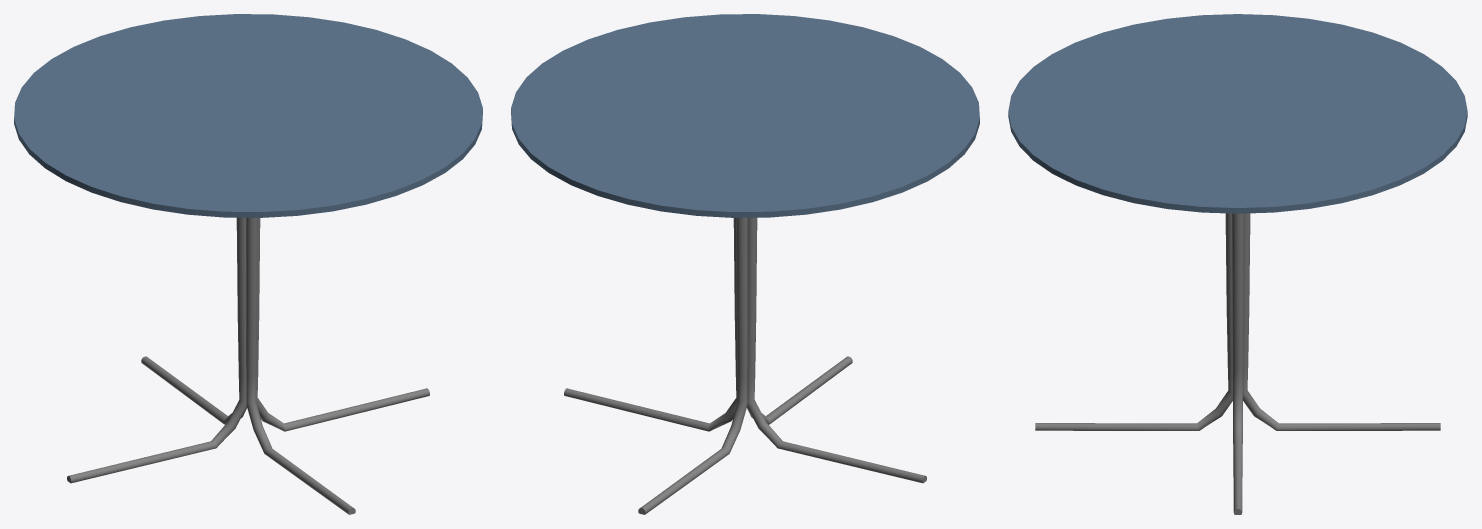
File: SM_TableGlass.FBX
3 views of the same model, side by side, from view 1: azimuth 30°, elevation 25°; view 2: azimuth 150°, elevation 25°; view 3: azimuth 270°, elevation 25° (orthographic). The views are drawn at different scales.
Parts seen in each view (by area): view 1: SM_TableGlass; view 2: SM_TableGlass; view 3: SM_TableGlass.
Part boxes in pixels (x1=…): SM_TableGlass: x1=14, y1=14, x2=482, y2=514; SM_TableGlass: x1=511, y1=14, x2=979, y2=514; SM_TableGlass: x1=1008, y1=14, x2=1467, y2=514.
Size of the model in its own units: 85.91 by 65.69 by 85.91.
